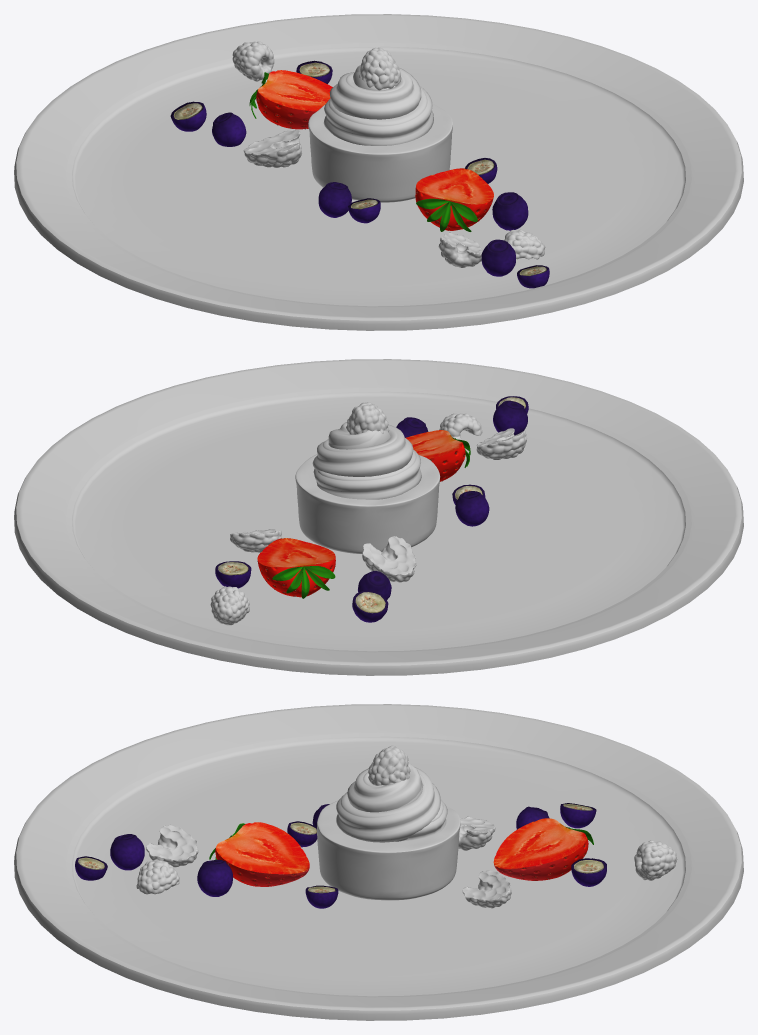
File: Cupcake_plate.fbx
The picture shows the model from 3 angles, top to bottom: view 1: azimuth 30°, elevation 25°; view 2: azimuth 150°, elevation 25°; view 3: azimuth 270°, elevation 25°; orthographic projection.
Visible parts, largest first — view 1: plate, cake1, foam1, strawberry2, strawberry1, Rasberrys4, Rasberrys3, Rasberrys5, Rasberrys1, blue_berrys5, blue_berrys1, blue_berrys2 (+7 smaller); view 2: plate, cake1, foam1, strawberry1, strawberry2, Rasberrys4, Rasberrys5, Rasberrys1, Rasberrys3, blue_berrys2, blue_berrys9, blue_berrys1 (+4 smaller); view 3: plate, cake1, foam1, strawberry2, strawberry1, Rasberrys1, Rasberrys5, Rasberrys3, Rasberrys6, Rasberrys2, blue_berrys5, blue_berrys1 (+6 smaller).
Part boxes in pixels (x1=…): plate: x1=14, y1=14, x2=743, y2=330; cake1: x1=308, y1=103, x2=452, y2=202; foam1: x1=323, y1=65, x2=433, y2=145; strawberry2: x1=415, y1=168, x2=493, y2=231; strawberry1: x1=249, y1=70, x2=332, y2=129; Rasberrys4: x1=243, y1=129, x2=301, y2=167; Rasberrys3: x1=359, y1=47, x2=401, y2=90; Rasberrys5: x1=232, y1=41, x2=274, y2=81; Rasberrys1: x1=438, y1=232, x2=482, y2=267; blue_berrys5: x1=492, y1=192, x2=528, y2=230; blue_berrys1: x1=481, y1=239, x2=515, y2=276; blue_berrys2: x1=318, y1=182, x2=351, y2=217; plate: x1=14, y1=359, x2=743, y2=675; cake1: x1=295, y1=454, x2=440, y2=554; foam1: x1=312, y1=422, x2=421, y2=499; strawberry1: x1=257, y1=538, x2=335, y2=598; strawberry2: x1=406, y1=430, x2=470, y2=481; Rasberrys4: x1=362, y1=536, x2=416, y2=582; Rasberrys5: x1=210, y1=586, x2=249, y2=625; Rasberrys1: x1=476, y1=428, x2=526, y2=459; Rasberrys3: x1=346, y1=402, x2=389, y2=434; blue_berrys2: x1=455, y1=491, x2=489, y2=526; blue_berrys9: x1=352, y1=590, x2=388, y2=622; blue_berrys1: x1=493, y1=400, x2=527, y2=435; plate: x1=14, y1=704, x2=743, y2=1020; cake1: x1=317, y1=800, x2=460, y2=900; foam1: x1=336, y1=763, x2=447, y2=842; strawberry2: x1=209, y1=822, x2=309, y2=886; strawberry1: x1=493, y1=818, x2=593, y2=880; Rasberrys1: x1=146, y1=824, x2=198, y2=867; Rasberrys5: x1=634, y1=840, x2=677, y2=880; Rasberrys3: x1=368, y1=745, x2=410, y2=785; Rasberrys6: x1=462, y1=870, x2=511, y2=908; Rasberrys2: x1=136, y1=859, x2=179, y2=894; blue_berrys5: x1=197, y1=859, x2=233, y2=896; blue_berrys1: x1=110, y1=834, x2=144, y2=870.
Bounding box in the file's own units: 1441 × 316 × 1441.
